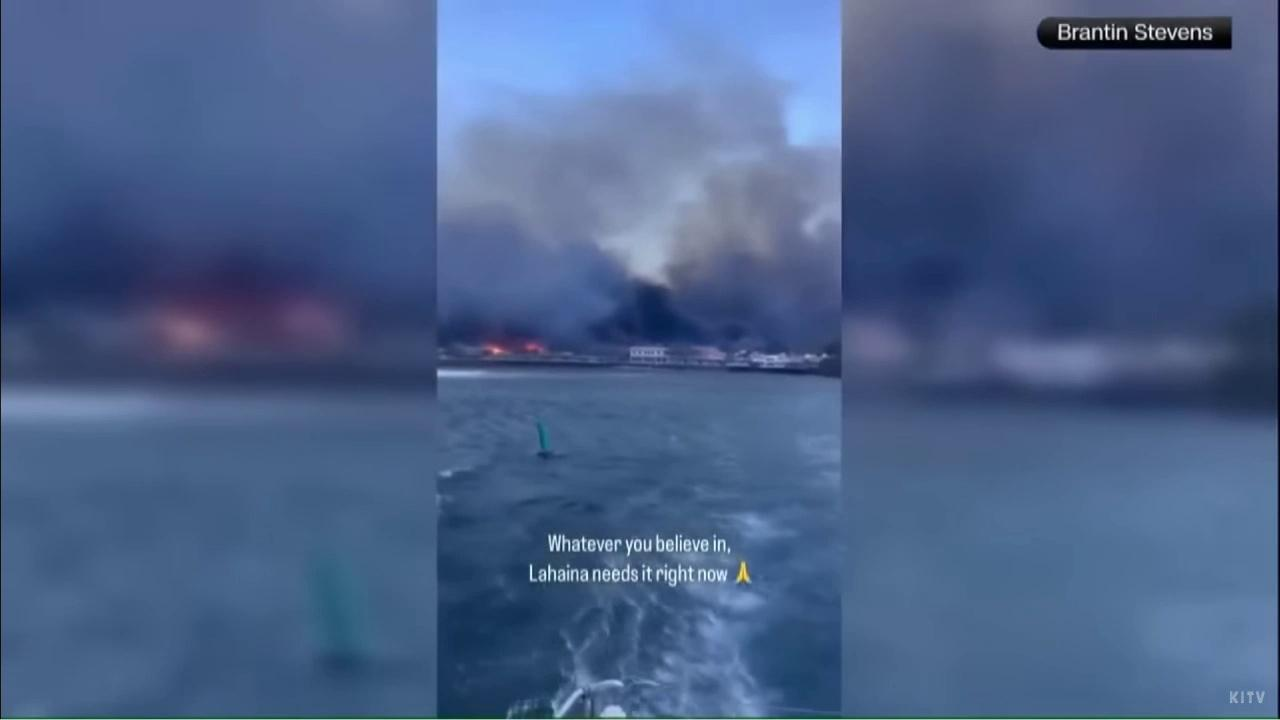fire: (482, 342, 514, 357), (522, 341, 544, 353)
smoke: (437, 29, 842, 359)
